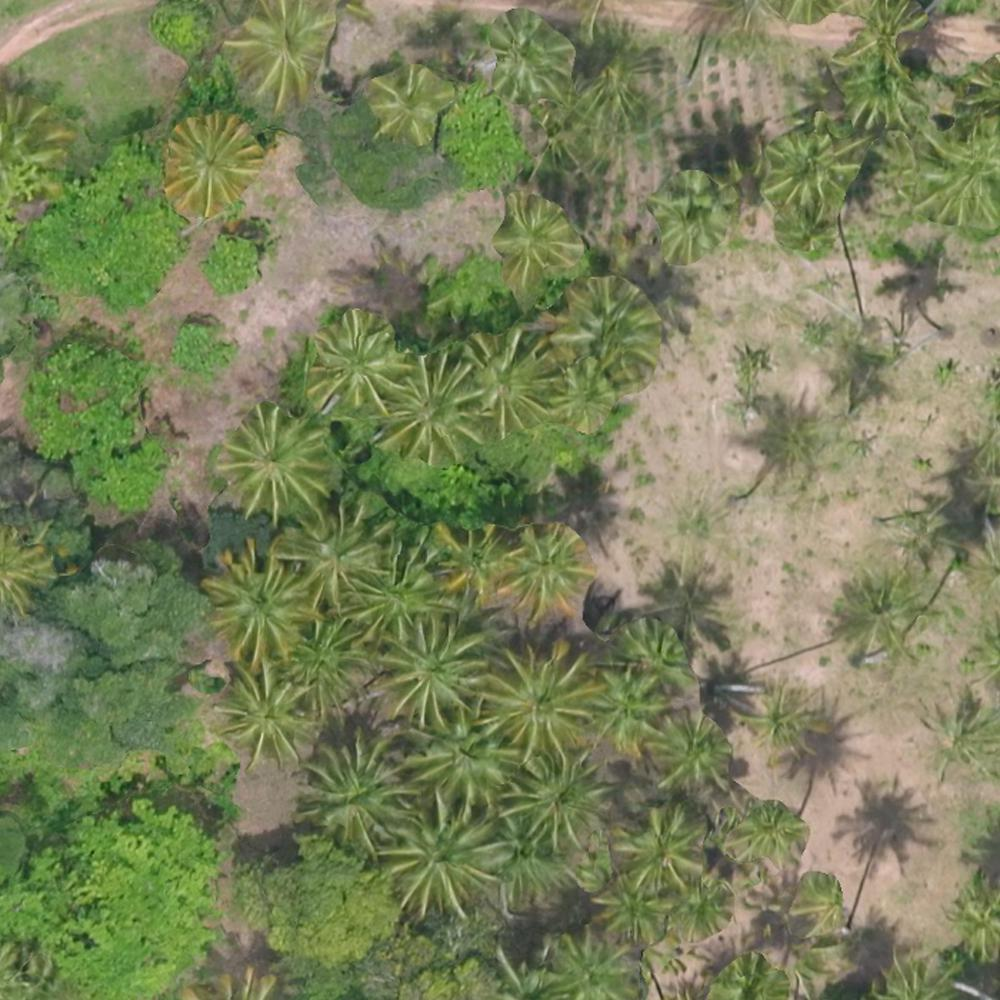Palm: (367, 616, 496, 724), (387, 799, 500, 912), (305, 741, 414, 851), (487, 642, 595, 752), (210, 550, 315, 657), (224, 409, 329, 514), (559, 276, 662, 381), (410, 714, 520, 810), (209, 659, 313, 759), (507, 754, 613, 852), (235, 1, 334, 100), (391, 357, 490, 455), (282, 507, 379, 605), (458, 332, 554, 429), (350, 538, 442, 639), (913, 123, 1000, 228), (308, 309, 401, 406), (834, 572, 931, 661), (166, 116, 254, 214), (485, 11, 577, 100), (501, 524, 587, 617), (287, 615, 370, 711), (616, 801, 708, 886), (644, 706, 734, 791), (499, 194, 584, 283), (585, 667, 664, 759), (429, 522, 507, 606), (767, 128, 847, 209), (744, 677, 824, 755), (537, 938, 638, 998), (370, 64, 446, 142), (654, 173, 726, 255), (592, 869, 665, 944), (730, 798, 807, 866), (552, 359, 618, 426)
